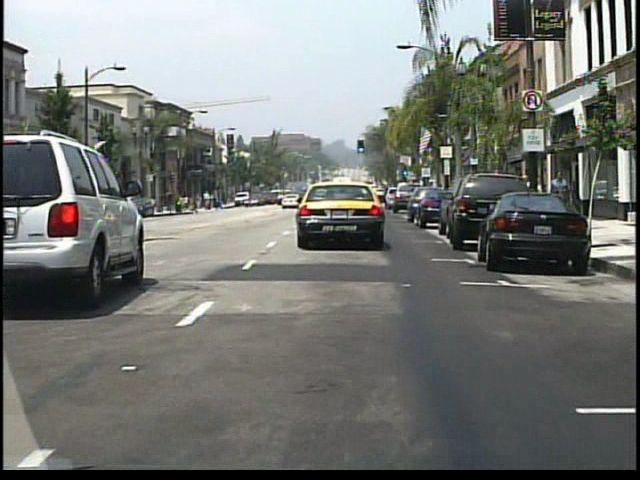person: (548, 168, 570, 226), (212, 193, 220, 211)
